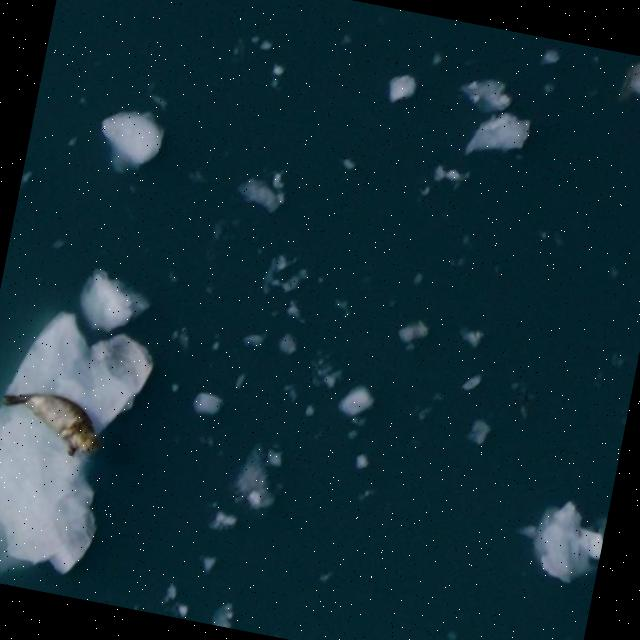seal: (0, 370, 115, 468)
